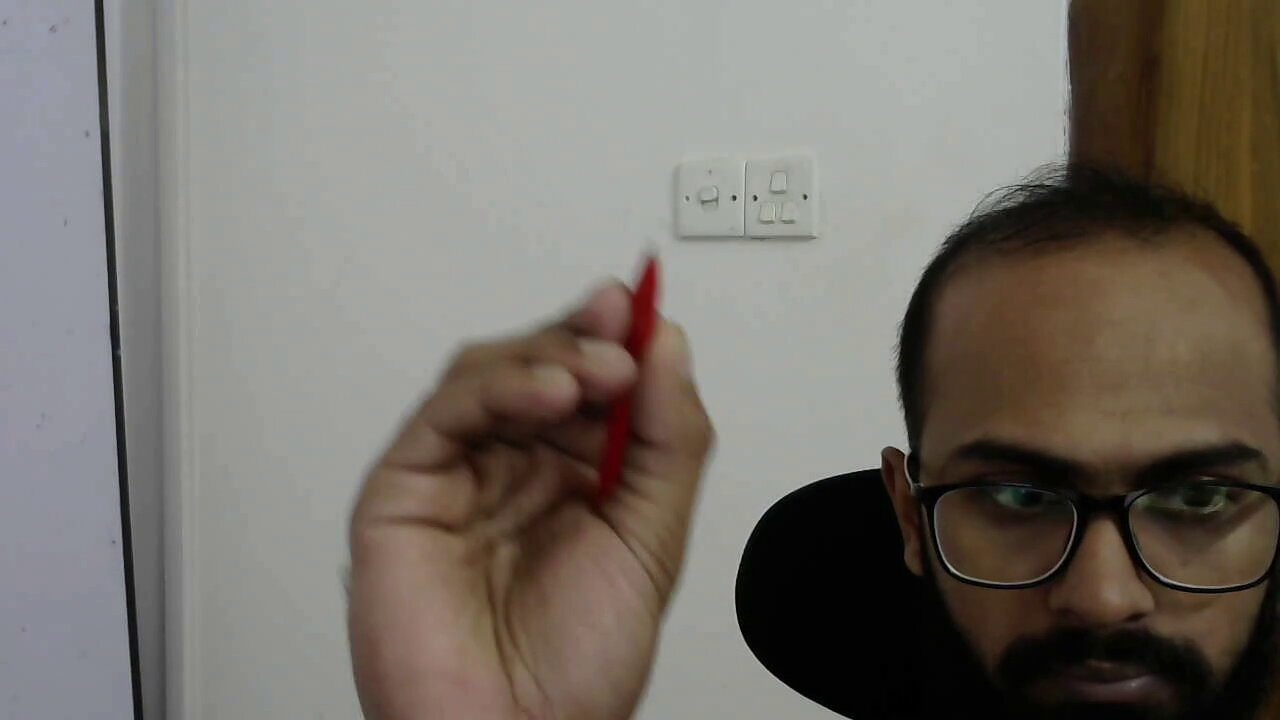pointer: (344, 273, 716, 624)
